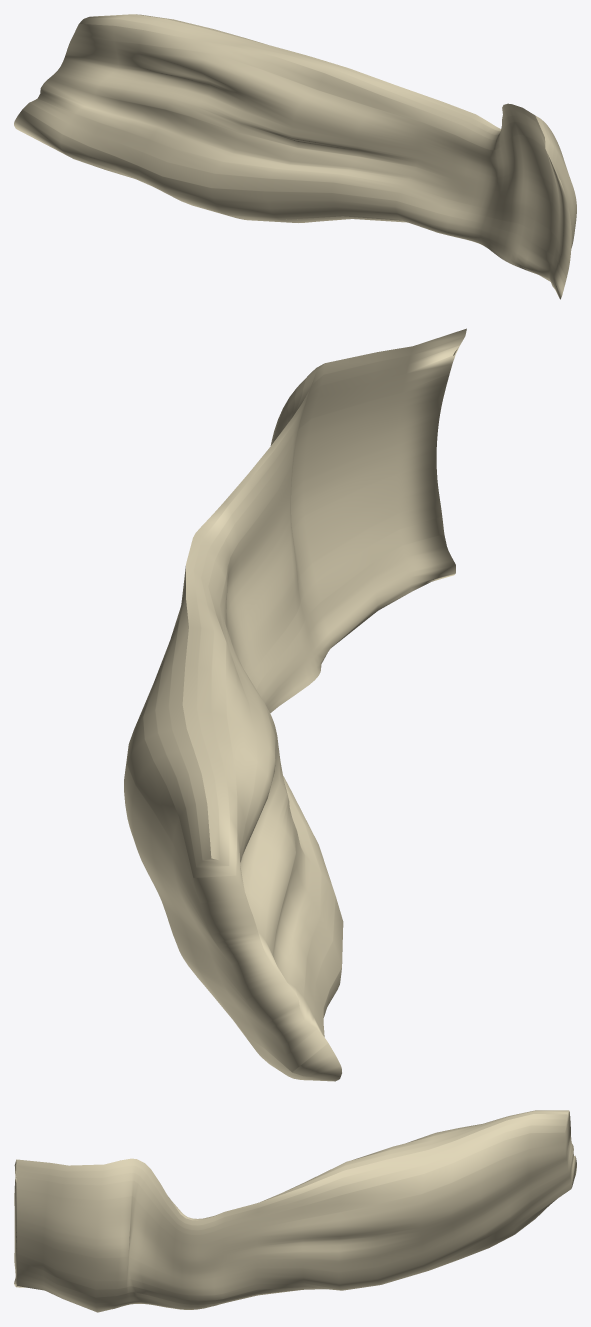
The model's file is lat_recus_muscle.obj.
3 renders of one model, top to bottom at view 1: azimuth 30°, elevation 25°; view 2: azimuth 150°, elevation 25°; view 3: azimuth 270°, elevation 25°, orthographic. The views are drawn at different scales.
Parts seen in each view (by area): view 1: Default; view 2: Default; view 3: Default.
Part boxes in pixels (<box>): Default: <box>14,14,576,299</box>; Default: <box>124,328,466,1081</box>; Default: <box>14,1110,576,1312</box>.
Bounding box in the file's own units: 4.74 × 2.88 × 8.47.
